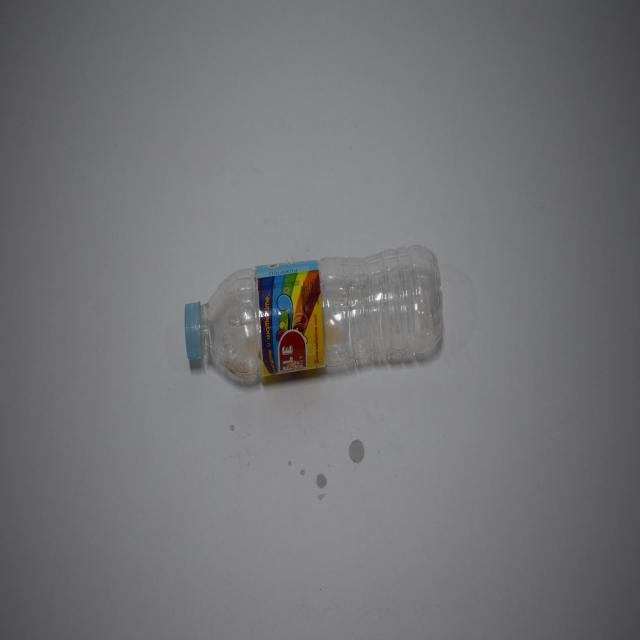bottle: (182, 239, 447, 390)
